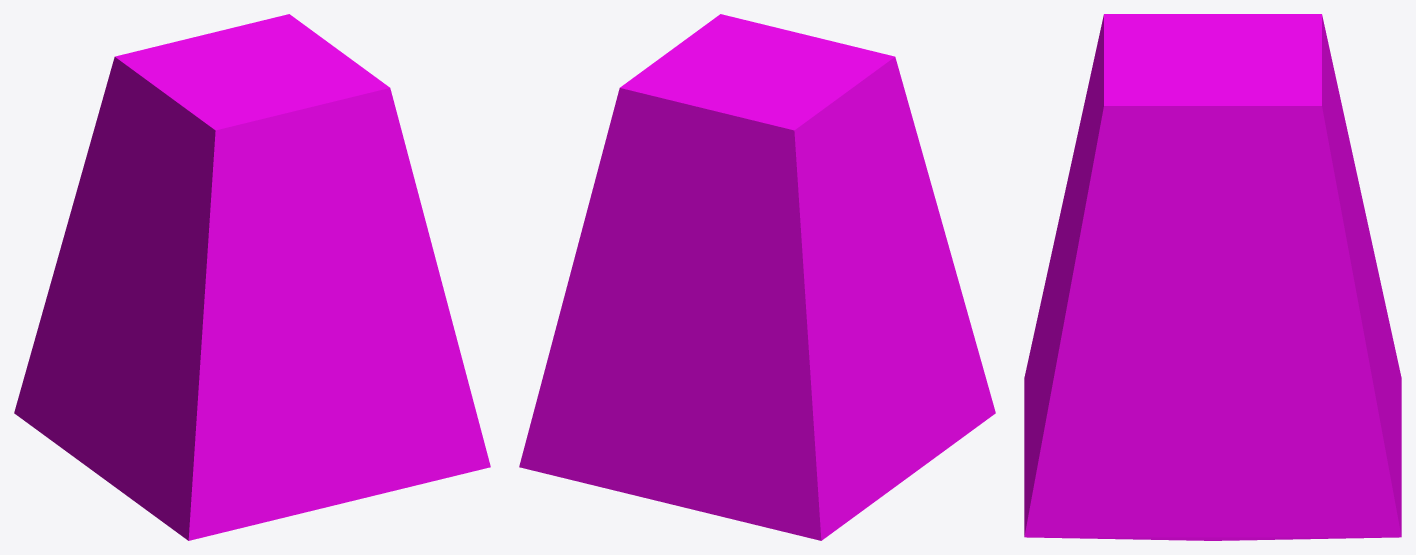
Rendered from body.obj.
3 views of the same model, side by side, from view 1: azimuth 30°, elevation 25°; view 2: azimuth 150°, elevation 25°; view 3: azimuth 270°, elevation 25° (orthographic). The views are drawn at different scales.
Visible parts, largest first — view 1: Body; view 2: Body; view 3: Body.
Boxes of the visible parts, bbox=[...] form: Body: bbox=[14, 14, 490, 540]; Body: bbox=[519, 14, 995, 540]; Body: bbox=[1024, 14, 1401, 540].
Bounding box in the file's own units: 1.79 × 2.52 × 1.79.
